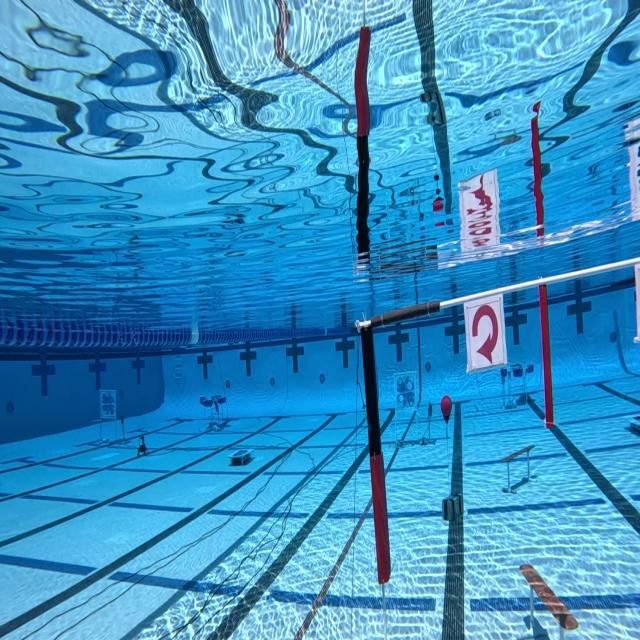red_side: (463, 294, 508, 372)
